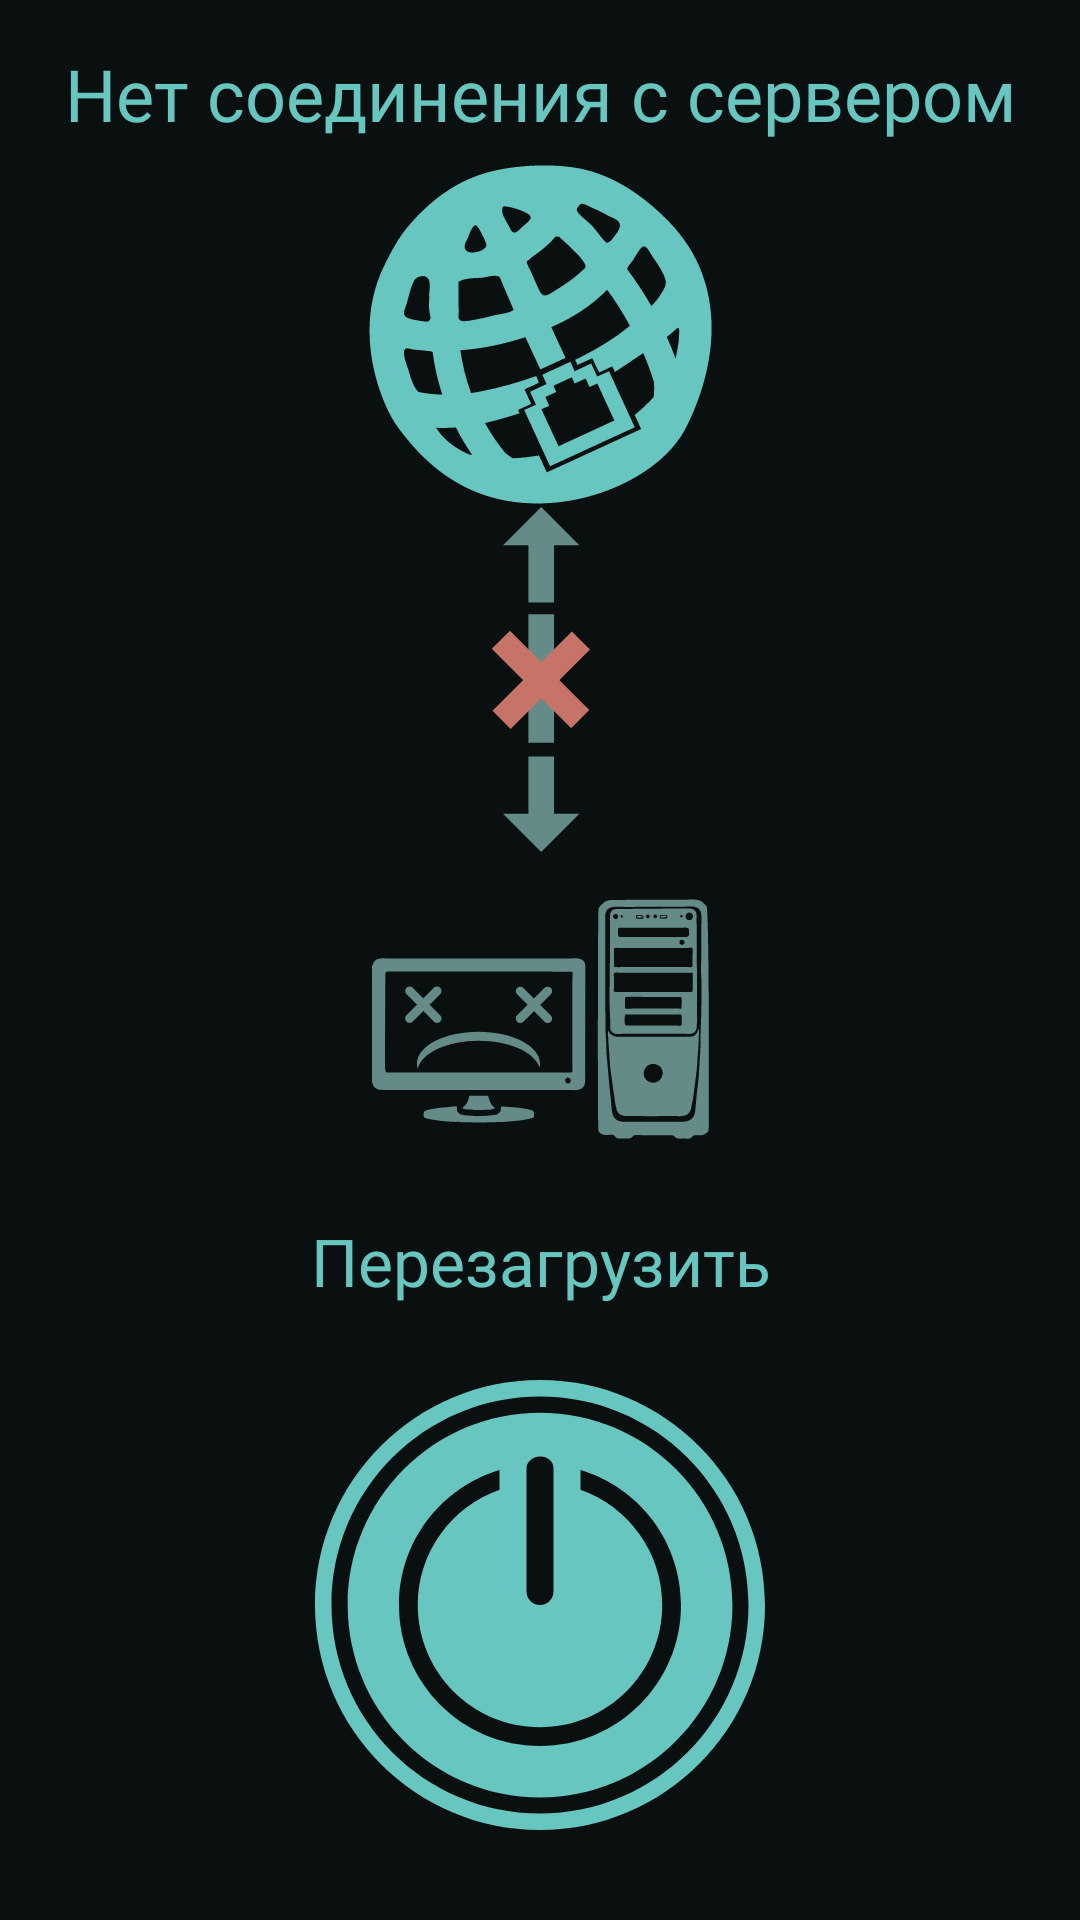

Icons on this 1080 × 1920 Android screen, each with its box as (left=x1, top=y1, right=x2, bottom=y2):
error arrows: (left=492, top=507, right=590, bottom=852)
error computer: (left=372, top=899, right=709, bottom=1139)
error internet: (left=369, top=165, right=712, bottom=504)
